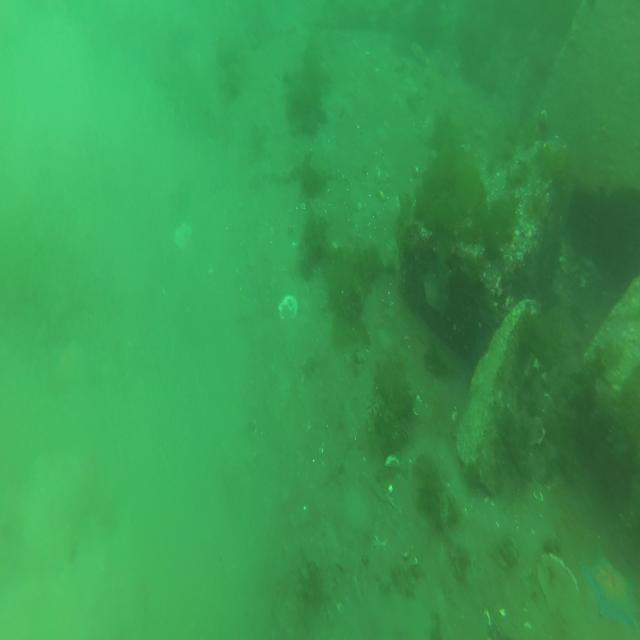holothurian: (261, 165, 302, 184)
scallop: (538, 557, 580, 617), (390, 474, 406, 511), (278, 297, 298, 323), (172, 227, 190, 252), (528, 417, 543, 446)
starfish: (583, 551, 637, 625), (50, 342, 87, 386), (422, 270, 447, 316)
